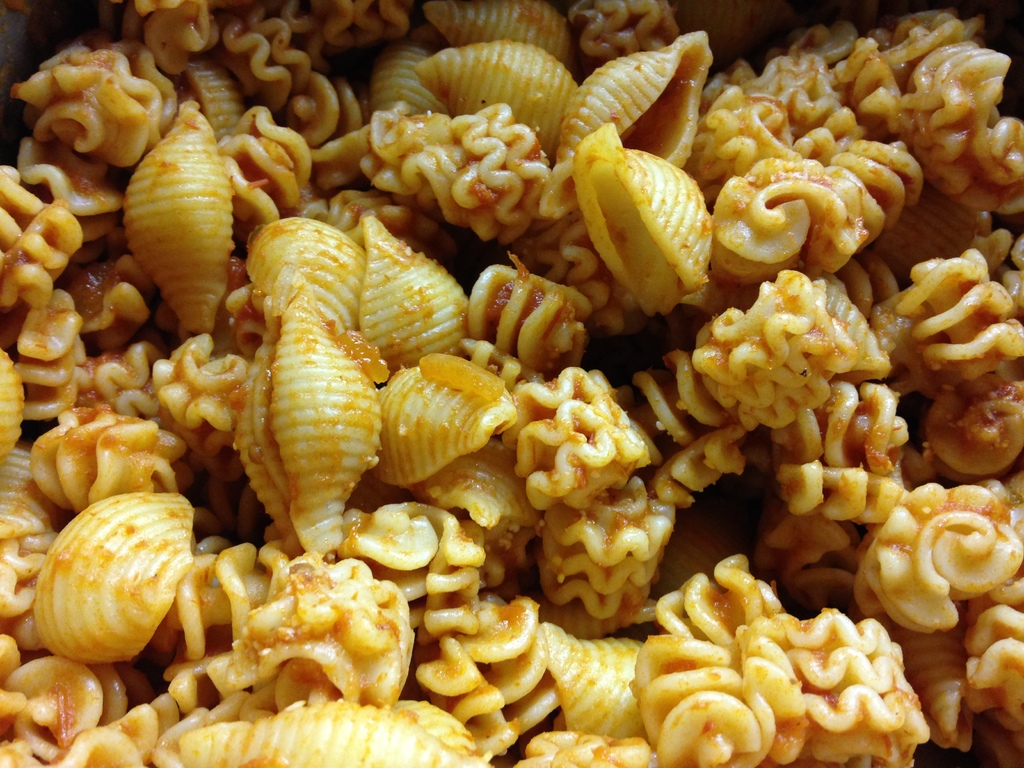pasta: (0, 10, 1024, 763)
